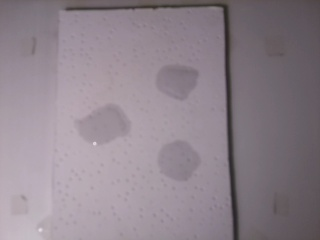Water_detected: (85, 102, 127, 142), (155, 149, 195, 187), (153, 60, 194, 93)
